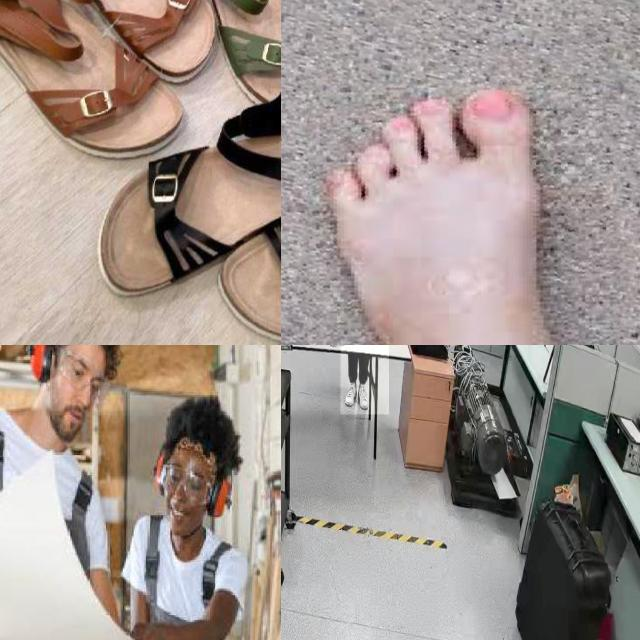Barefoots: (307, 91, 579, 345)
Ear-protection: (146, 443, 238, 526), (24, 345, 107, 400)
Sandals: (95, 69, 281, 345), (0, 0, 225, 163), (174, 0, 281, 125)
glasses: (56, 345, 115, 409), (159, 457, 215, 511)
head_nohelmet: (151, 386, 247, 553), (30, 345, 131, 454)
person: (0, 345, 133, 640), (117, 380, 266, 640), (340, 345, 389, 415)
shoes: (358, 377, 372, 415), (343, 375, 357, 409)
